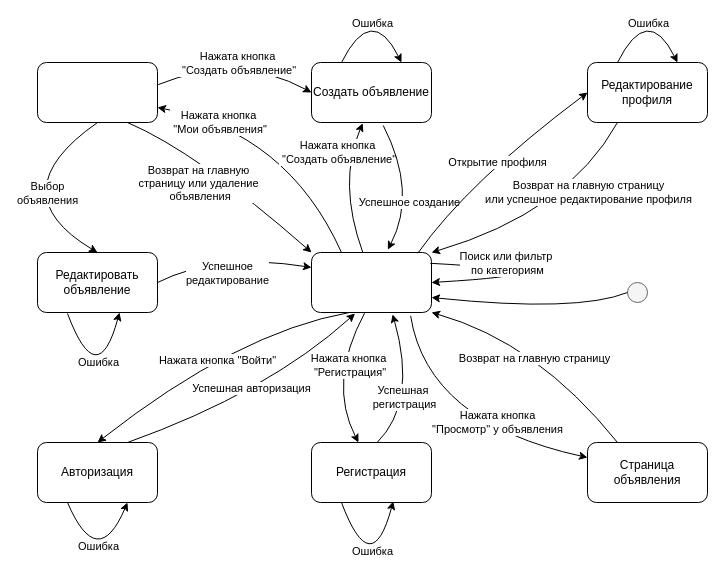
Some shapes in this 725 by 576 pixel diagram are drawn without their labels. Here are the shapes that lost their labels. From the top down, the centre of each, then its label:
At pixel 97 92: "Мои объявления".
At pixel 371 282: "Главная страница".
